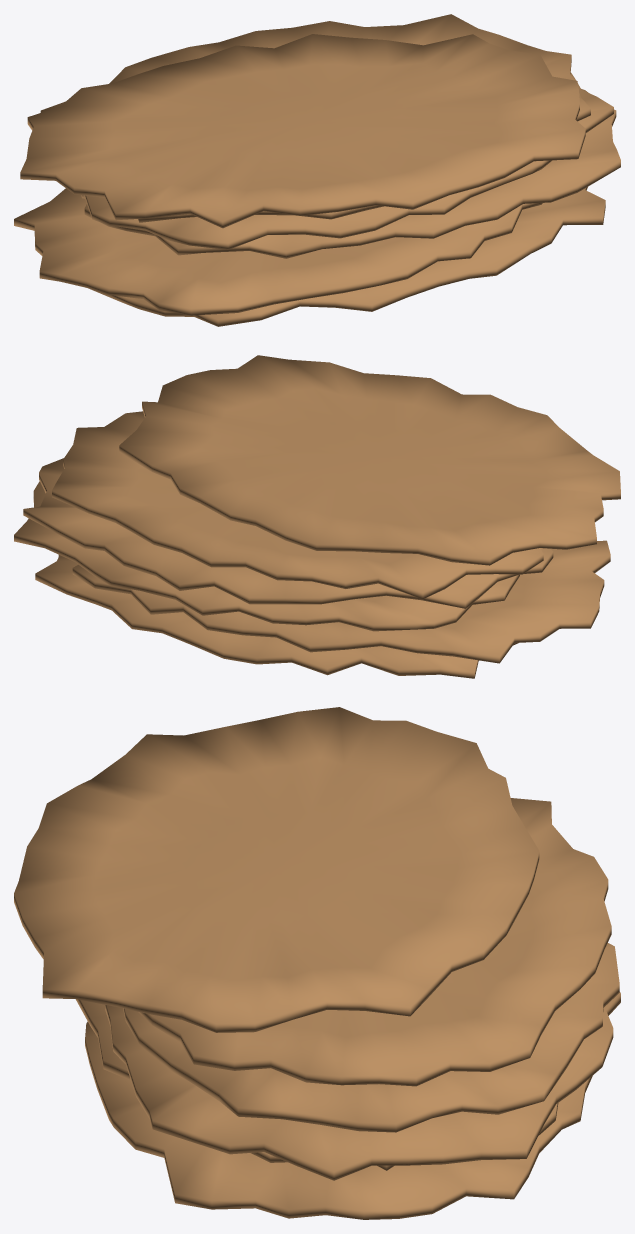
The model's file is w3d_pelt_cured_hide_l.glb.
3 views of the same model, one above another, from view 1: azimuth 30°, elevation 25°; view 2: azimuth 150°, elevation 25°; view 3: azimuth 270°, elevation 25° (orthographic). The views are drawn at different scales.
Visible parts, largest first — view 1: w3d_pelt_cured_hide_l; view 2: w3d_pelt_cured_hide_l; view 3: w3d_pelt_cured_hide_l.
Part boxes in pixels (x1,y1,x2,y2): w3d_pelt_cured_hide_l: (14, 14, 620, 326); w3d_pelt_cured_hide_l: (14, 355, 620, 678); w3d_pelt_cured_hide_l: (14, 707, 620, 1219).
Size of the model in its own units: 0.7893 by 0.1819 by 0.5511.
